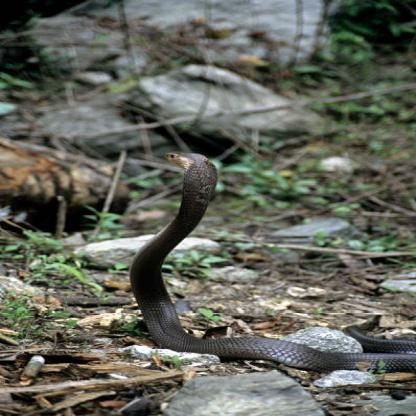Snake: (130, 146, 416, 372)
